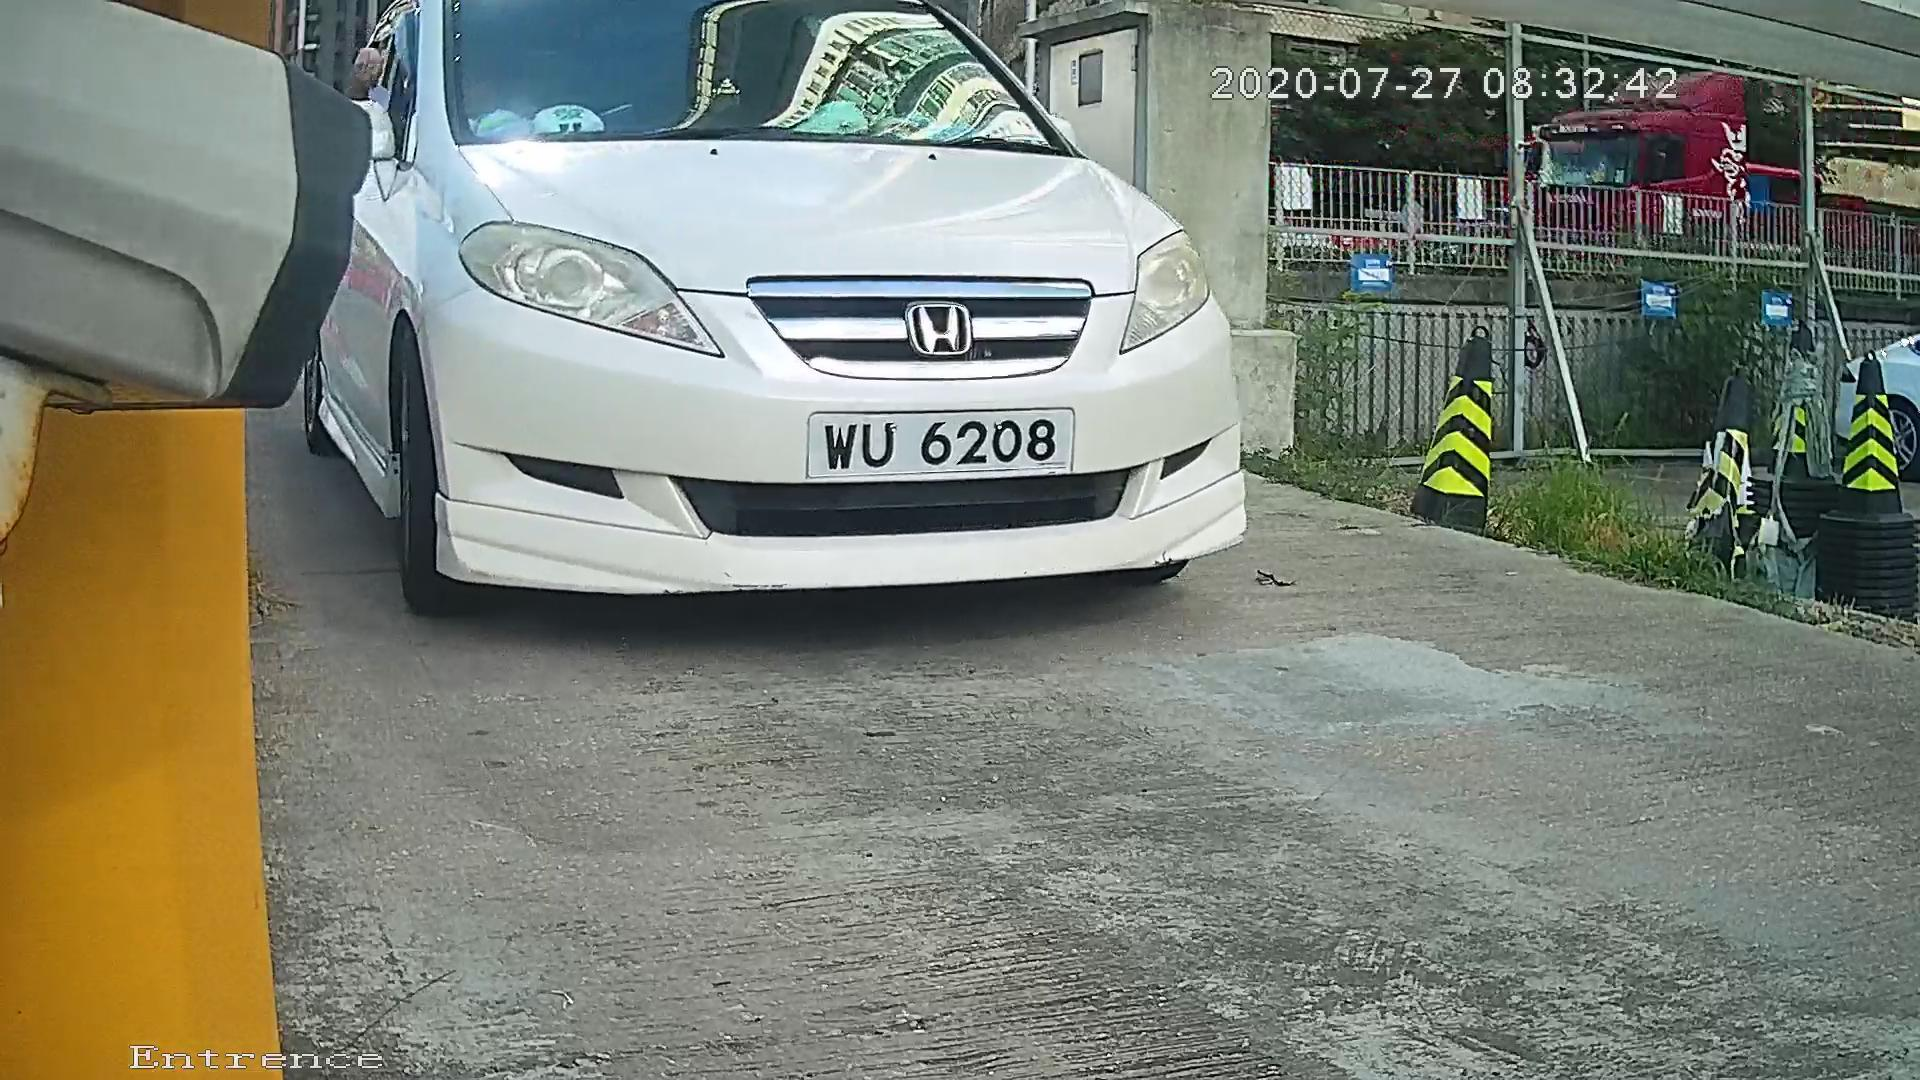License Plate: (781, 391, 1098, 483)
